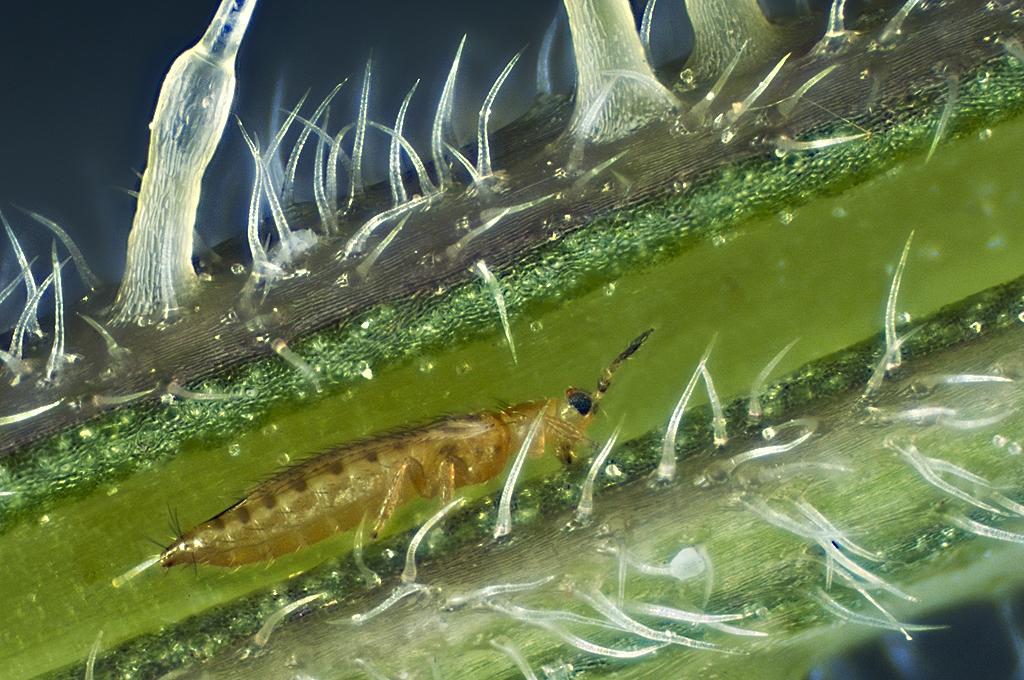Thripidae: (149, 329, 655, 585)
